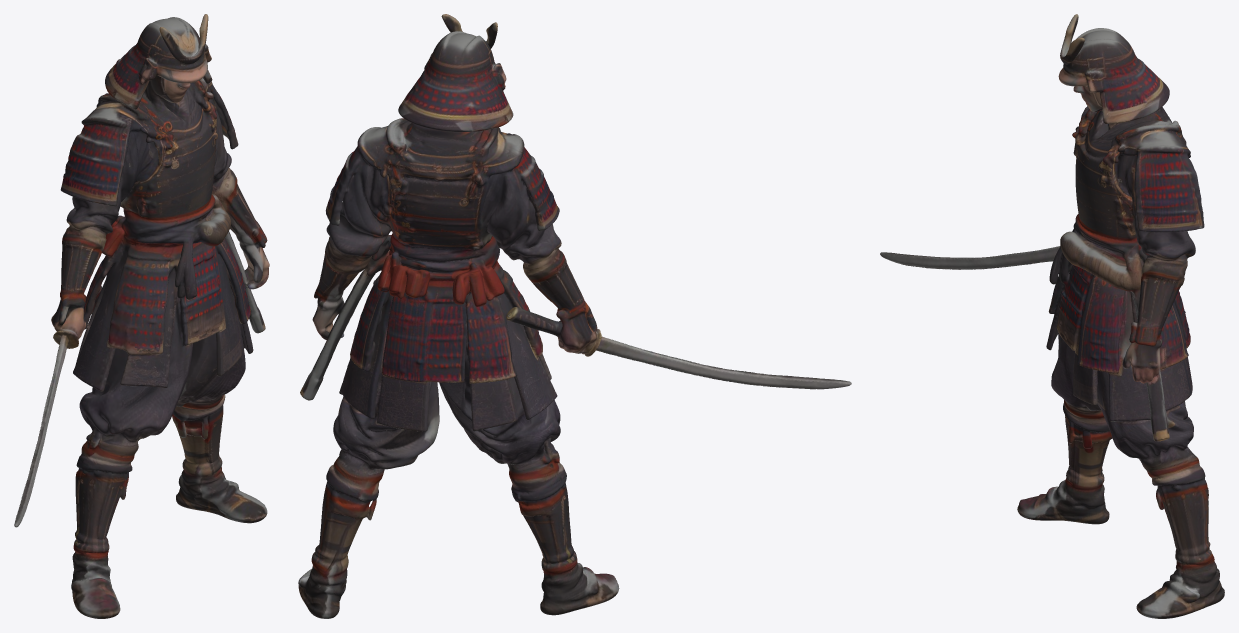
The model's file is samurai_armor.glb.
3 renders of one model, left to right at view 1: azimuth 30°, elevation 25°; view 2: azimuth 150°, elevation 25°; view 3: azimuth 270°, elevation 25°, orthographic. The views are drawn at different scales.
Parts seen in each view (by area): view 1: tripo_node_abe789c5-0a9b-4a9d-8323-350236c6a42e; view 2: tripo_node_abe789c5-0a9b-4a9d-8323-350236c6a42e; view 3: tripo_node_abe789c5-0a9b-4a9d-8323-350236c6a42e.
Part boxes in pixels (<box>): tripo_node_abe789c5-0a9b-4a9d-8323-350236c6a42e: <box>14,14,269,618</box>; tripo_node_abe789c5-0a9b-4a9d-8323-350236c6a42e: <box>298,14,851,618</box>; tripo_node_abe789c5-0a9b-4a9d-8323-350236c6a42e: <box>880,14,1224,618</box>.
Bounding box in the file's own units: 0.7449 × 1 × 0.5798.
Materials: 1 (1 with a texture image).
